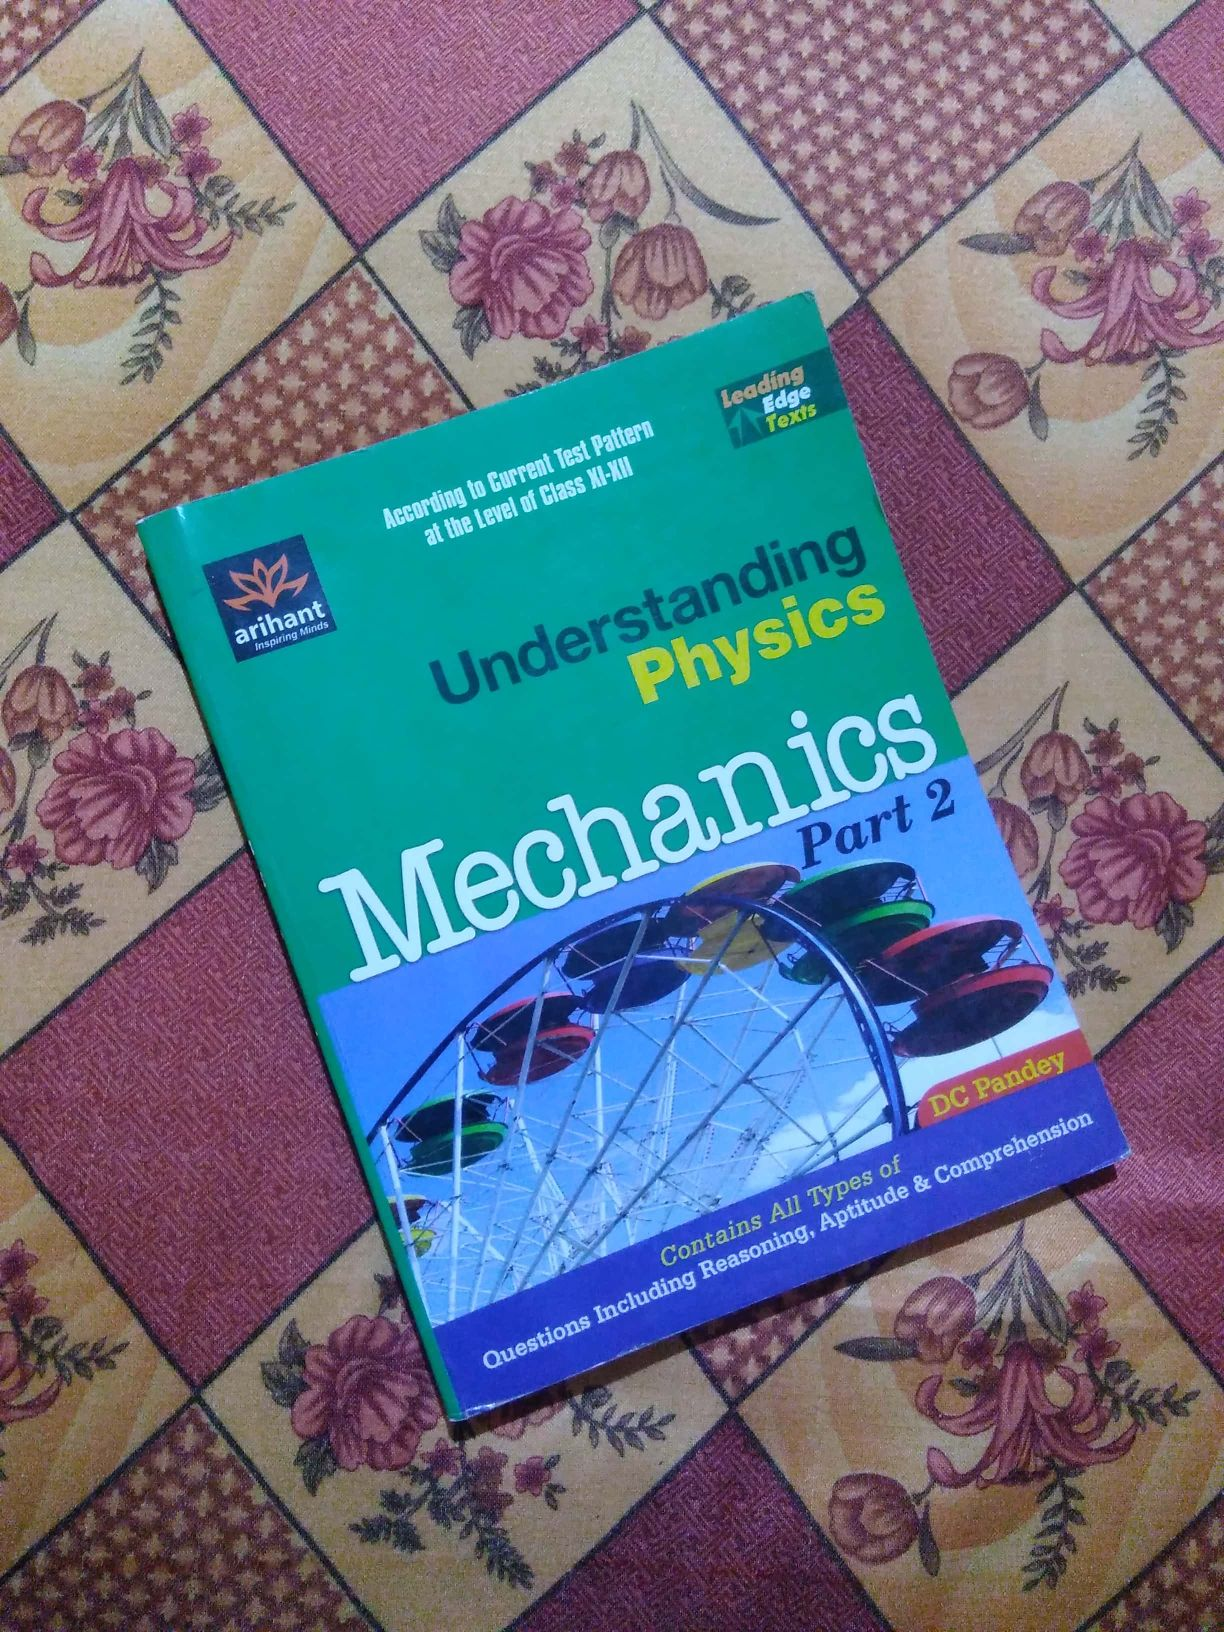mechanics: (144, 337, 1131, 1360)
